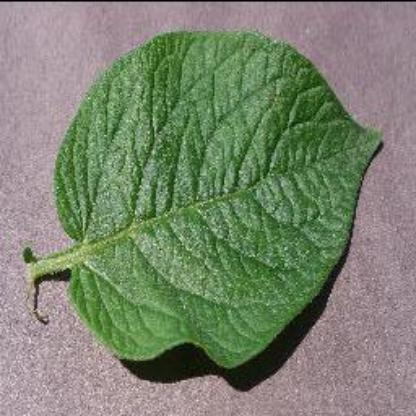Healthy-plant: (22, 24, 378, 380)
